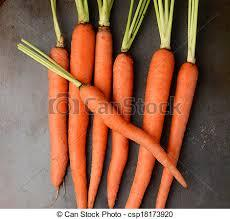Organic: (1, 3, 230, 202)
